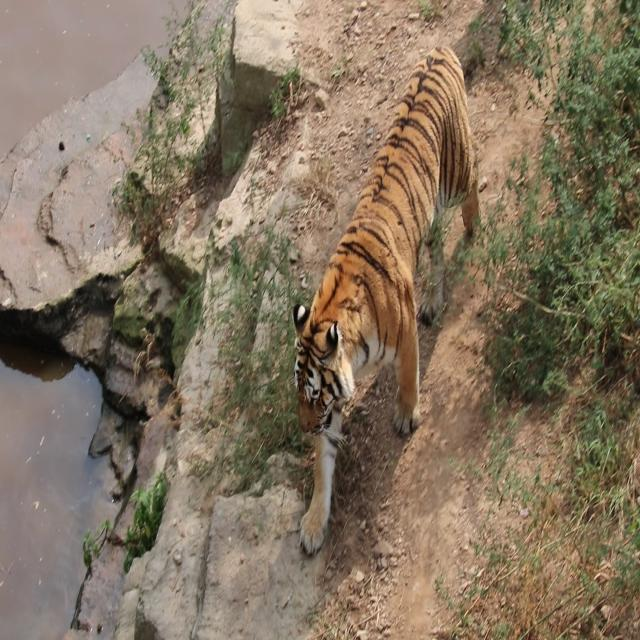Tiger: (259, 17, 491, 621)
